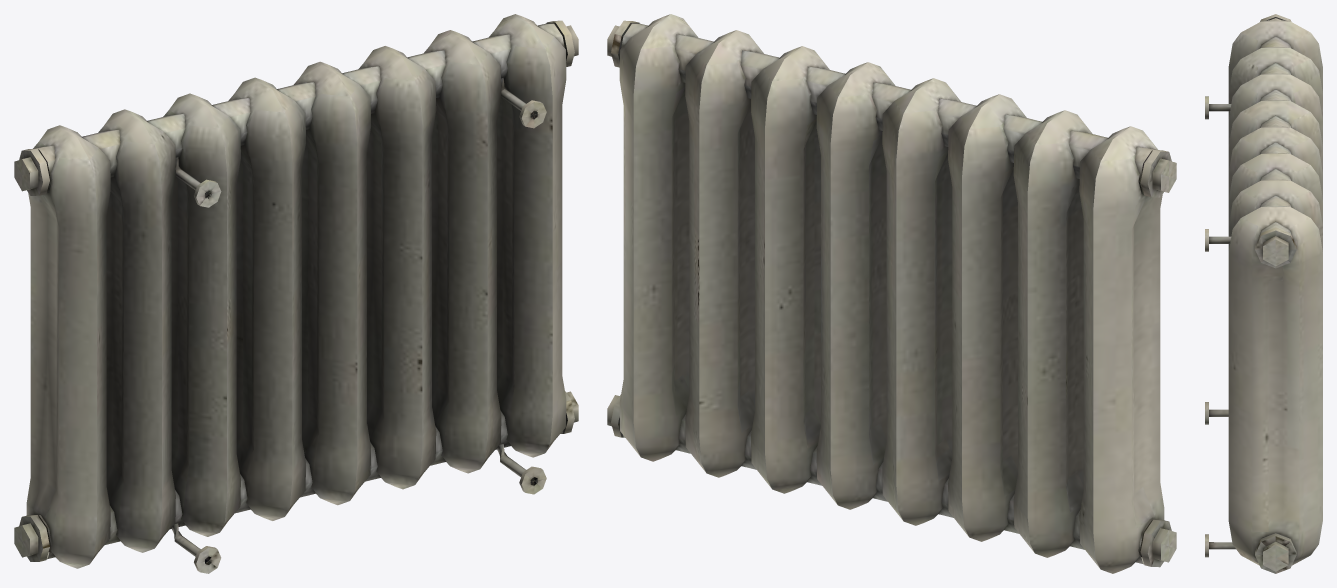
File: rad_8_bare_lod1_web.glb
3 views of the same model, side by side, from view 1: azimuth 30°, elevation 25°; view 2: azimuth 150°, elevation 25°; view 3: azimuth 270°, elevation 25° (orthographic). The views are drawn at different scales.
Visible parts, largest first — view 1: Rad8Bare_Body; view 2: Rad8Bare_Body; view 3: Rad8Bare_Body.
Part boxes in pixels (<box>): Rad8Bare_Body: <box>14,14,578,573</box>; Rad8Bare_Body: <box>607,14,1176,573</box>; Rad8Bare_Body: <box>1205,14,1322,573</box>.
Size of the model in its own units: 0.784 by 0.594 by 0.175.
1 material, 1 textured.
